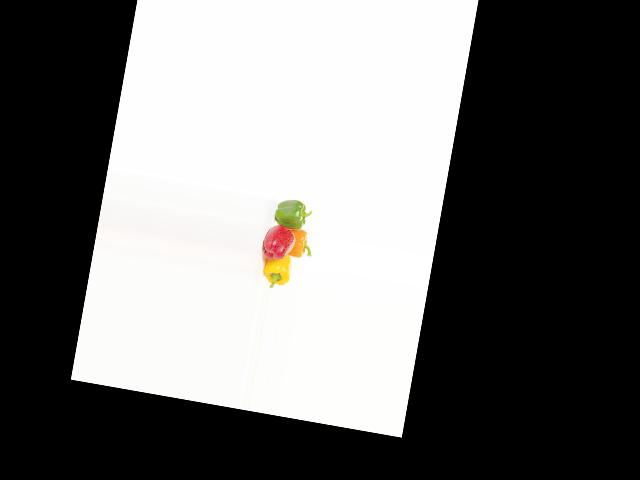bell_pepper: (267, 195, 311, 233)
